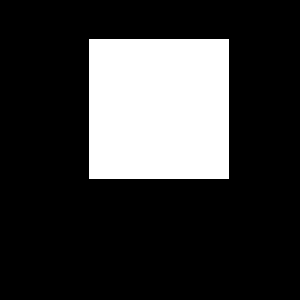circle: (89, 39, 229, 179)
